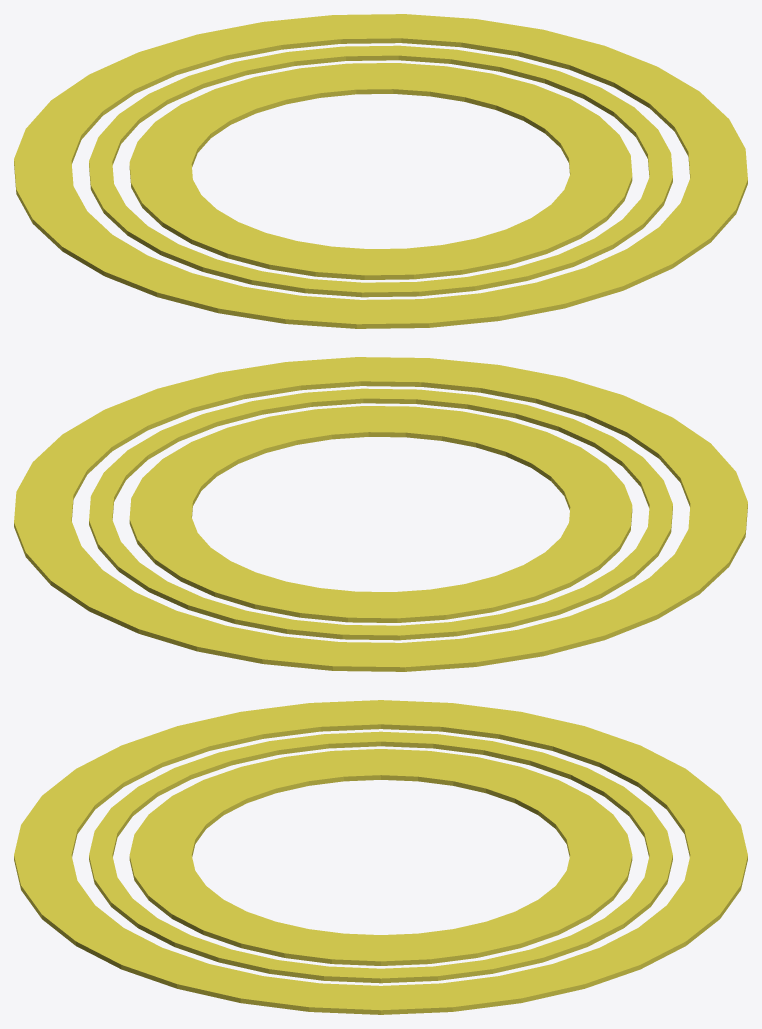
The model's file is RingPlane.fbx.
3 renders of one model, top to bottom at view 1: azimuth 30°, elevation 25°; view 2: azimuth 150°, elevation 25°; view 3: azimuth 270°, elevation 25°, orthographic.
Parts seen in each view (by area): view 1: Circle; view 2: Circle; view 3: Circle.
Part boxes in pixels (x1=…): Circle: x1=14, y1=14, x2=747, y2=328; Circle: x1=14, y1=357, x2=747, y2=671; Circle: x1=14, y1=700, x2=747, y2=1014.
Size of the model in its own units: 400 by 2.84 by 400.
